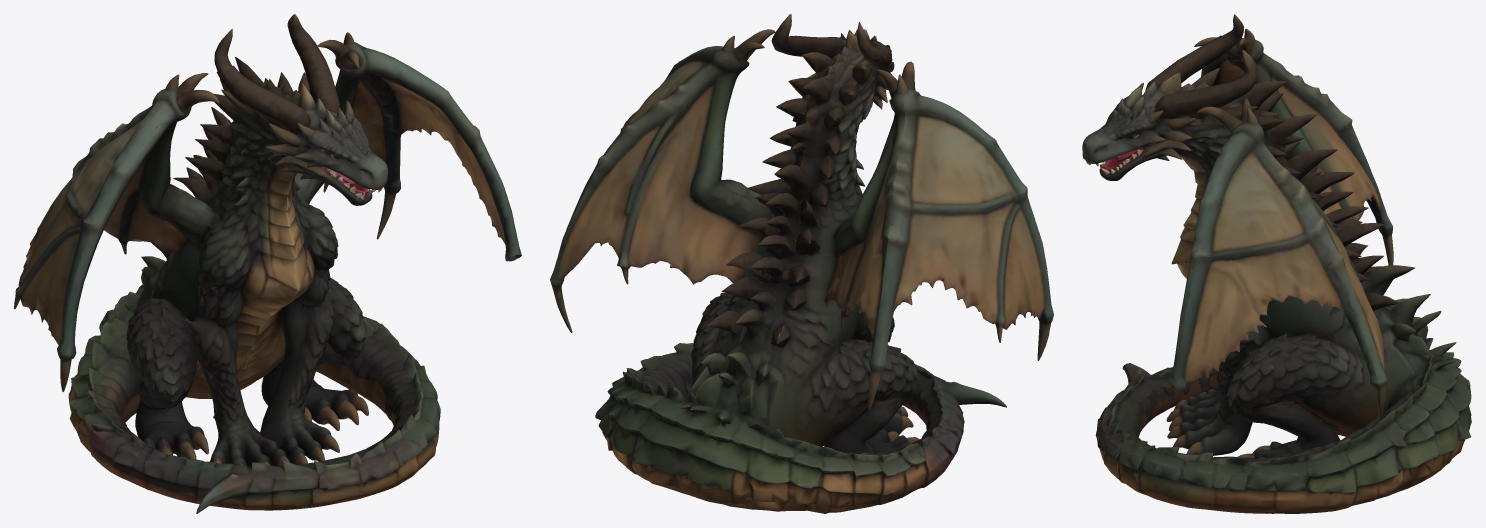
File: detail_14.glb
3 views of the same model, side by side, from view 1: azimuth 30°, elevation 25°; view 2: azimuth 150°, elevation 25°; view 3: azimuth 270°, elevation 25° (orthographic). The views are drawn at different scales.
Bounding box in the file's own units: 1 × 0.9422 × 0.7971.
Materials: 1 (1 with a texture image).
